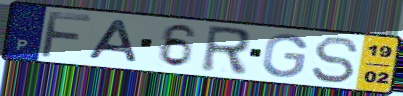6: (155, 23, 198, 69)
A: (85, 19, 140, 65)
F: (37, 9, 94, 60)
G: (260, 32, 311, 80)
R: (197, 24, 253, 78)
S: (309, 35, 361, 85)
